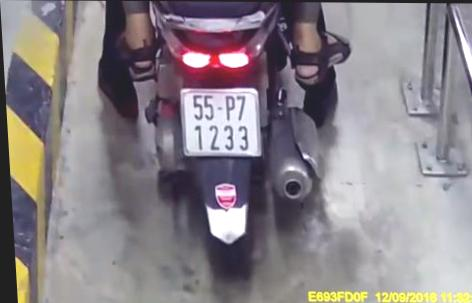License_Plate: (171, 79, 266, 161)
